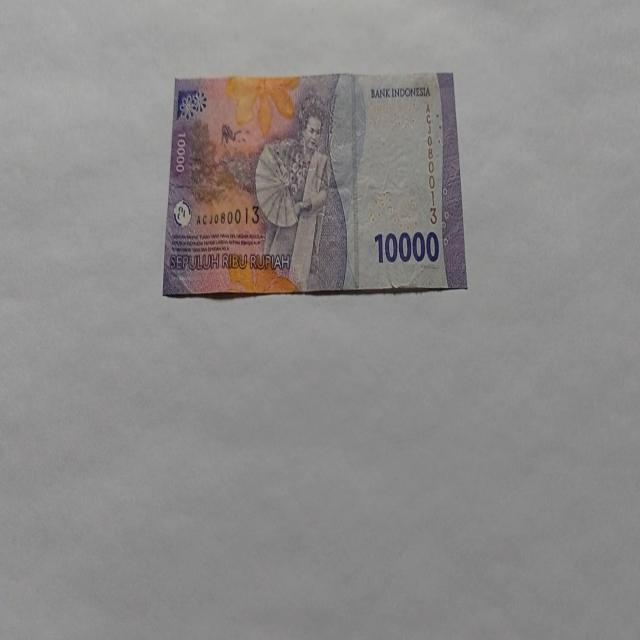sepuluh ribu rupiah: (161, 70, 467, 299), (373, 228, 440, 266)
